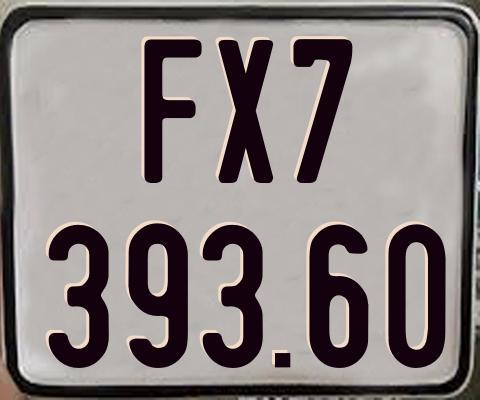0: (386, 223, 446, 368)
3: (47, 223, 112, 371), (200, 223, 261, 370)
6: (307, 224, 369, 369)
7: (290, 39, 350, 183)
9: (128, 223, 194, 368)
F: (141, 37, 203, 183)
X: (218, 39, 277, 188)
